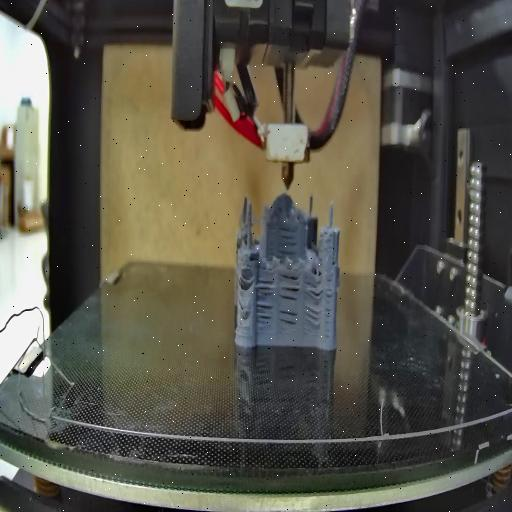cracks: (256, 279, 274, 330), (274, 222, 298, 256), (281, 268, 300, 302), (325, 278, 333, 340), (304, 276, 322, 302), (279, 308, 299, 330), (305, 306, 321, 332), (238, 296, 252, 322), (238, 272, 248, 292), (330, 254, 335, 272)
